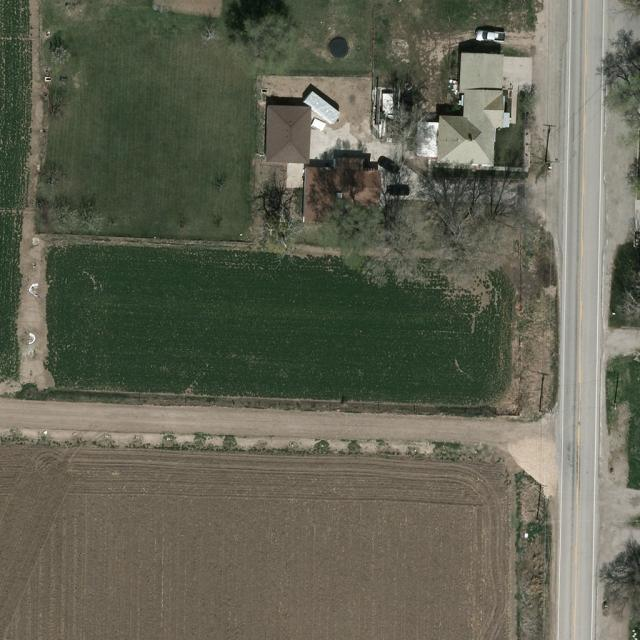vehicle: (376, 156, 403, 176), (473, 30, 508, 44), (386, 186, 410, 196)
